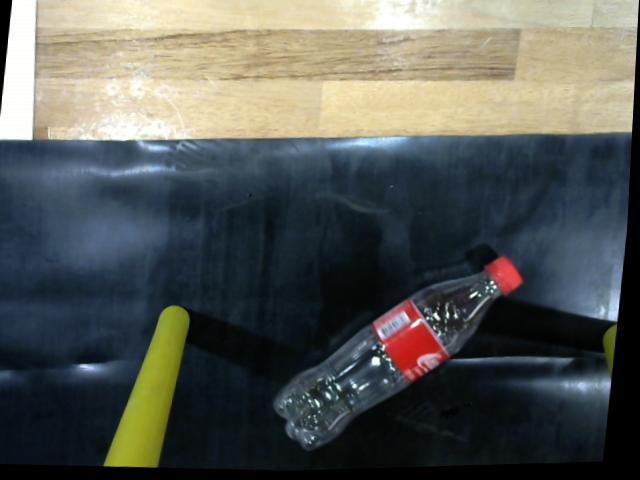bottle: (271, 243, 538, 458)
